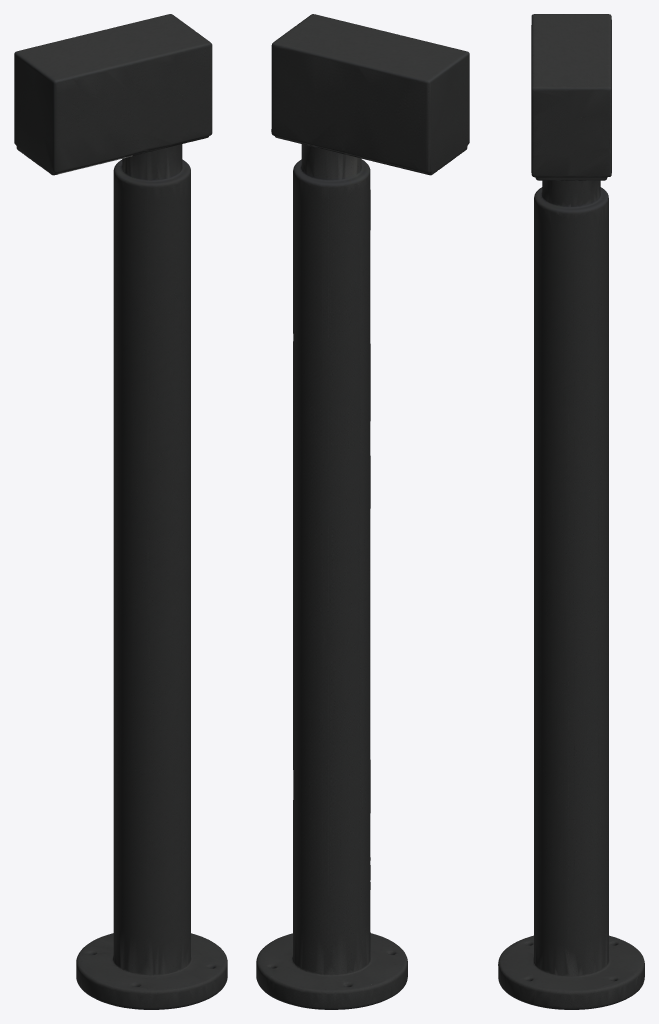
File: post-security-lamp-mesh.glb
3 views of the same model, side by side, from view 1: azimuth 30°, elevation 25°; view 2: azimuth 150°, elevation 25°; view 3: azimuth 270°, elevation 25° (orthographic). The views are drawn at different scales.
Parts seen in each view (by area): view 1: mesh_node; view 2: mesh_node; view 3: mesh_node.
Boxes of the visible parts, box(x1,y1,x2,y2) form: mesh_node: box(14, 14, 227, 1009); mesh_node: box(256, 14, 469, 1009); mesh_node: box(498, 14, 644, 1009).
Size of the model in its own units: 0.3886 by 1.9 by 0.2777.
Materials: 1 (1 with a texture image).
